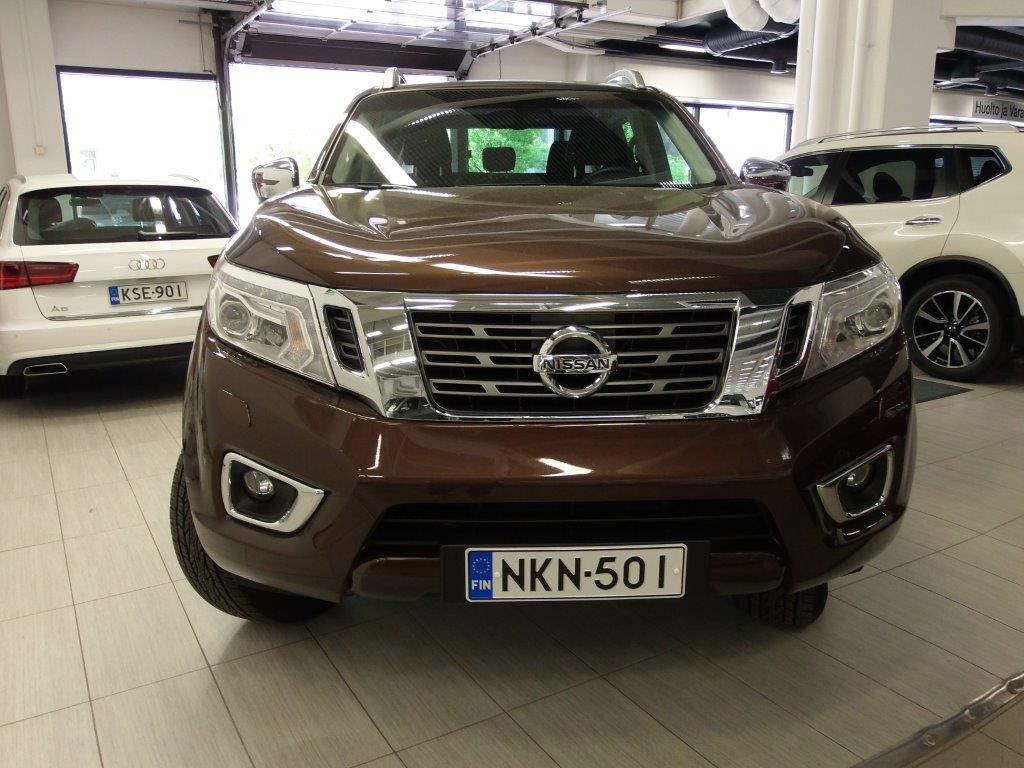license: (464, 544, 682, 601)
